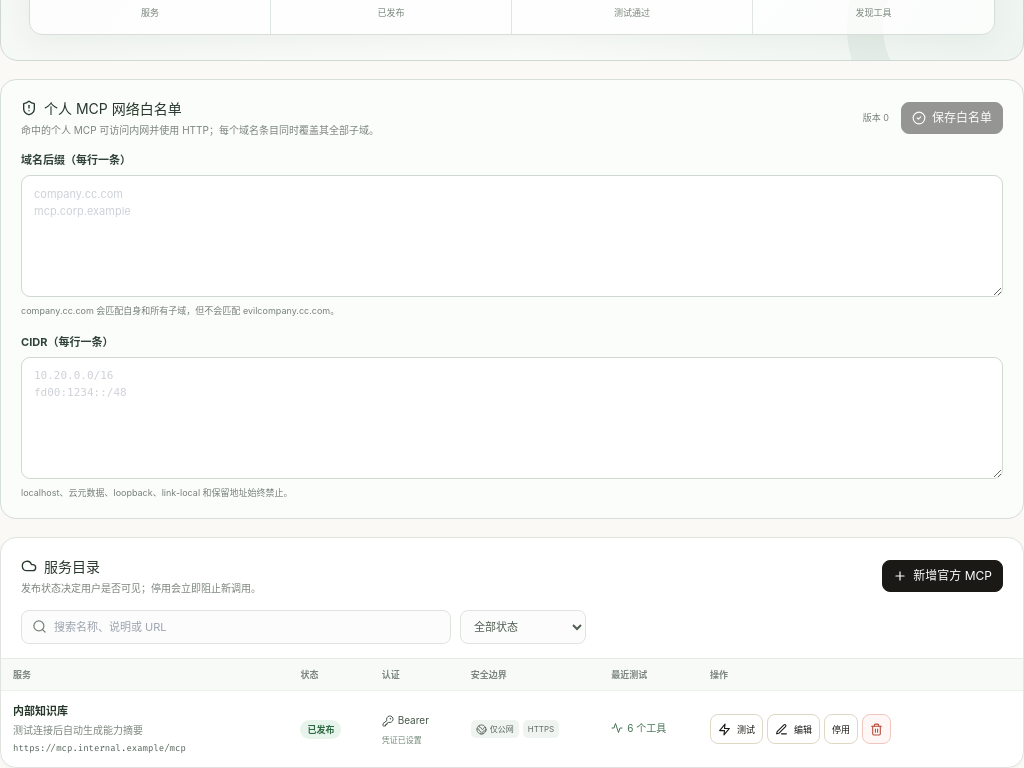
Test: AdminMcpCatalogPanel › 测试成功后按有界延迟只刷新目录，不重置白名单草稿
(page scrolled)
Click the button with aria-label "测试 内部知识库". click: {"x": 736, "y": 729}
box: [710,714,763,744]
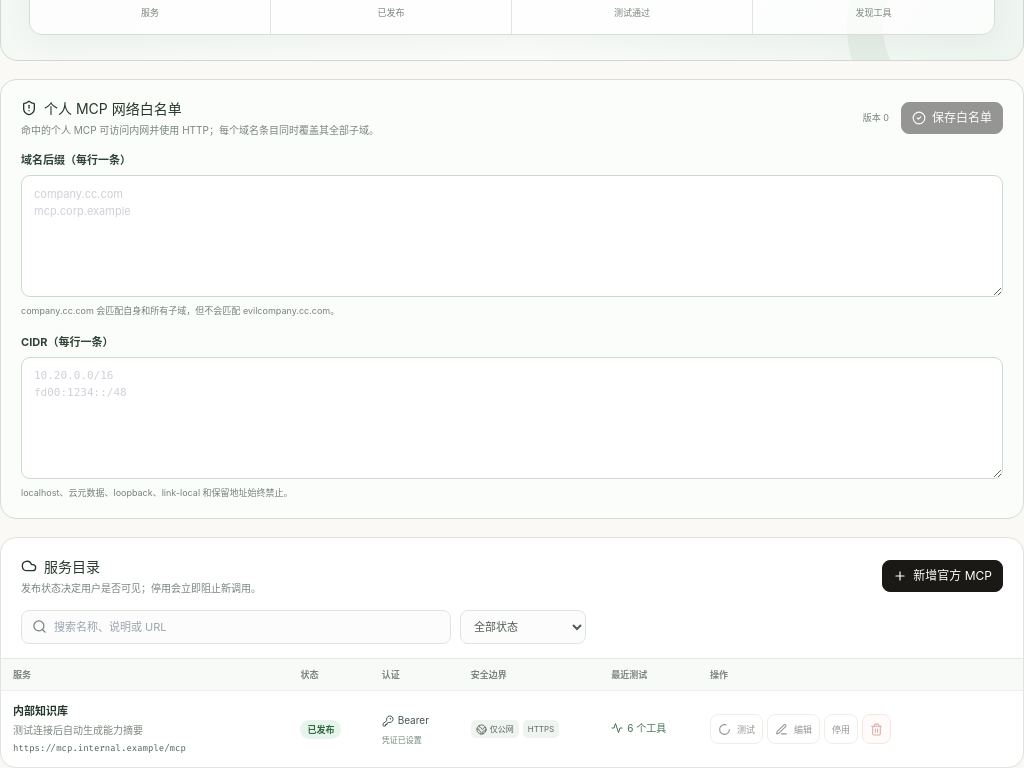
Type "company.cc.com" into the text box named "个人 MCP 域名白名单". click: {"x": 512, "y": 236}
box: [21,175,1003,297]
Wait 65000 ms
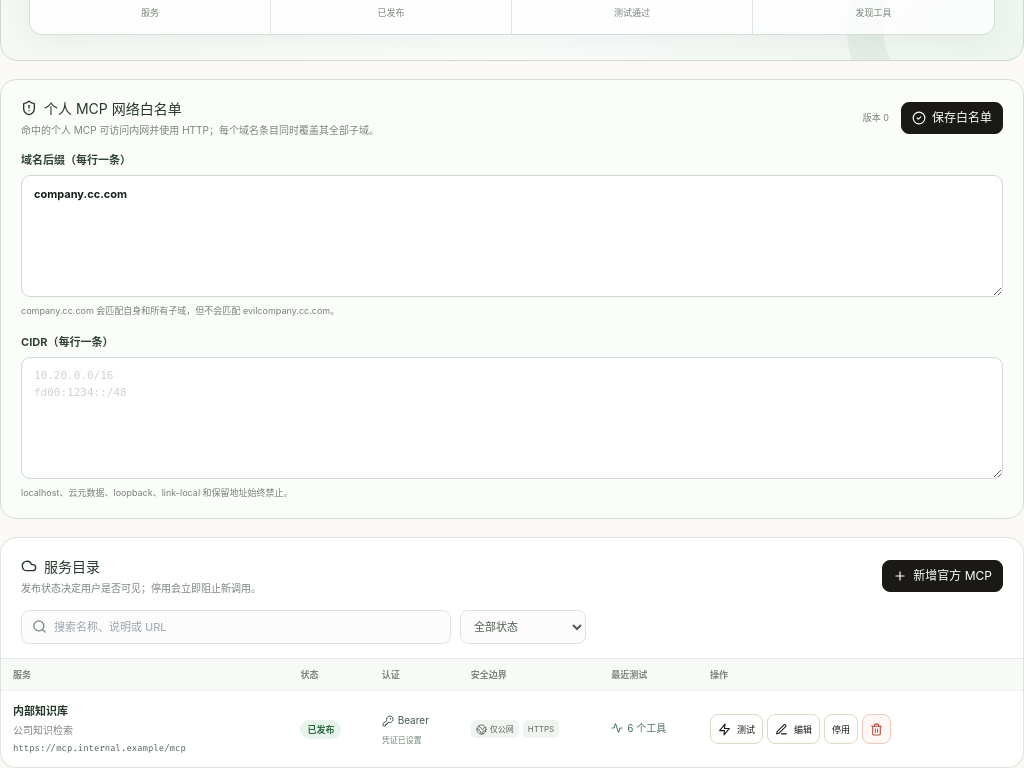
Result: the text "公司知识检索" is shown at [13,724,73,736]
